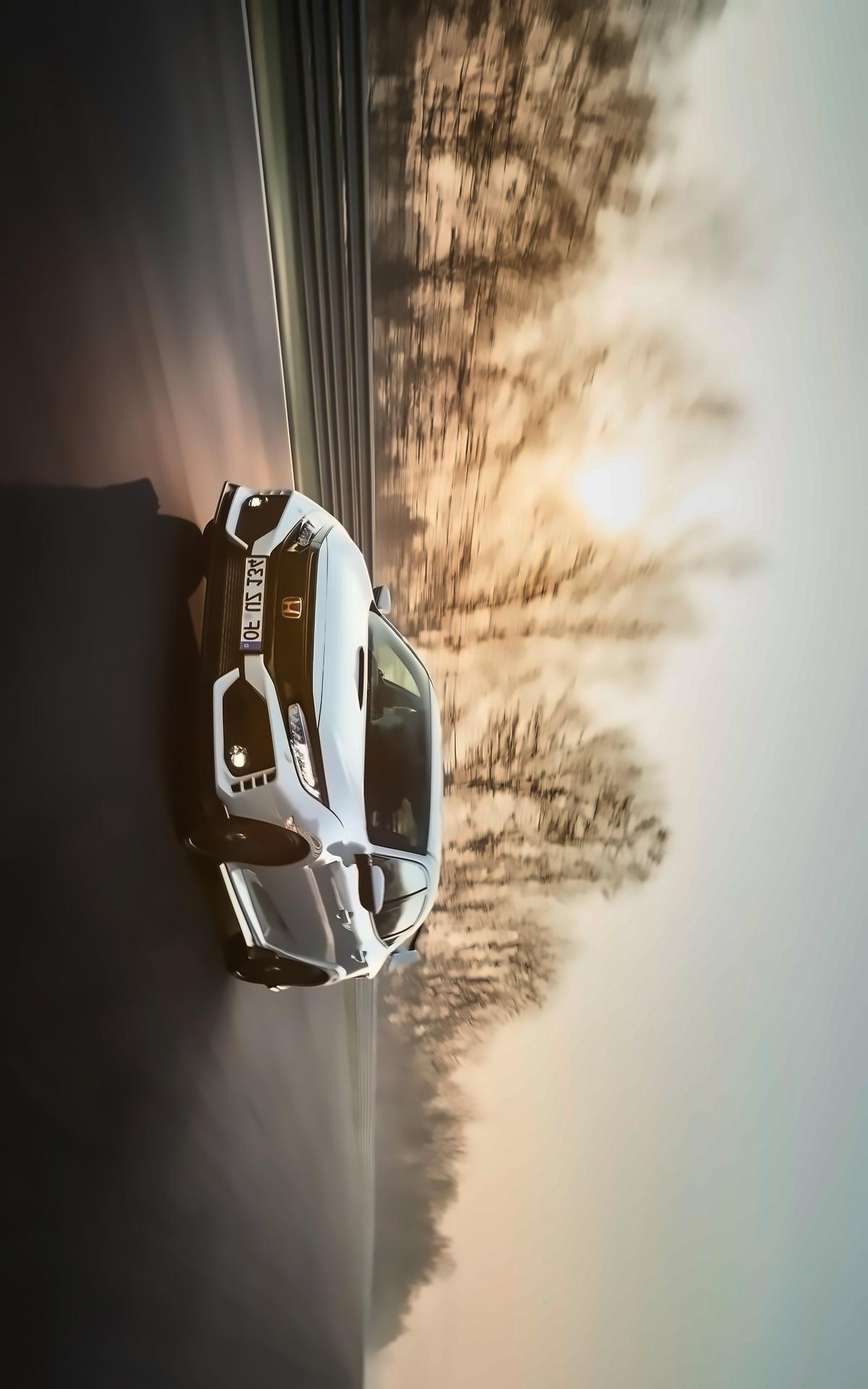Car hood: (312, 513, 374, 832)
Fender - -F-L-: (221, 791, 380, 869)
Front bumper: (193, 468, 300, 842)
Headlight - -L-: (281, 696, 328, 803)
Headlight - -R-: (282, 488, 337, 562)
Passenger-s door - -F-L-: (229, 851, 441, 917)
Passenger-s door - -R-L-: (245, 901, 439, 976)
Side bumper - -L-: (217, 854, 268, 961)
Side mirror - -L-: (346, 856, 390, 916)
Side mirror - -R-: (367, 569, 396, 620)
